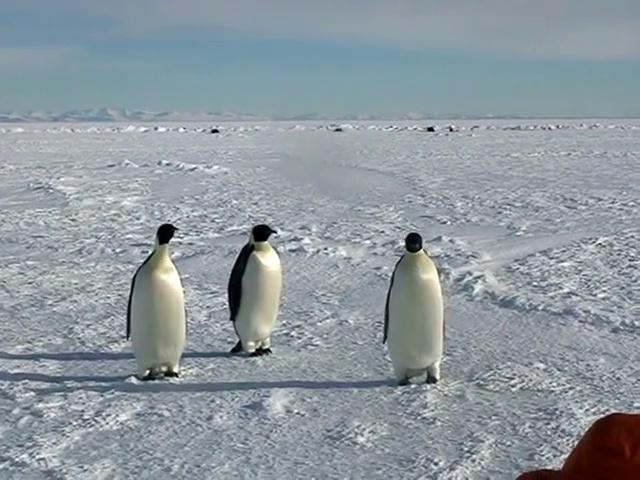animal: (385, 234, 444, 385)
